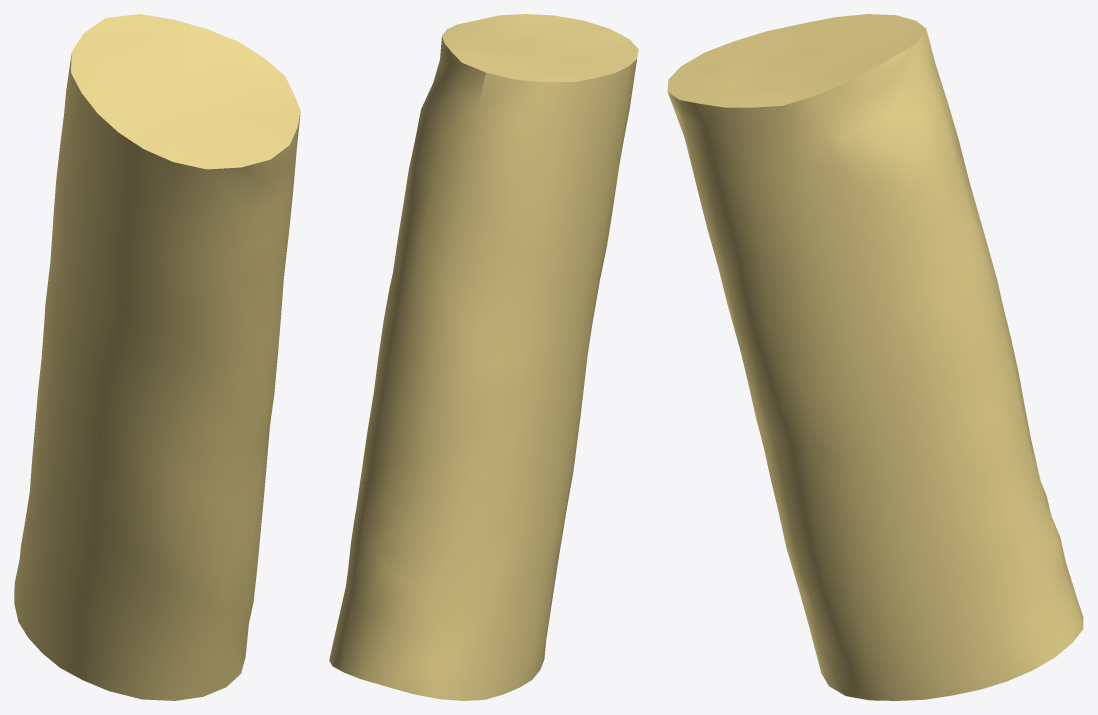
The model's file is fma327604-r_mm3411m.glb.
3 renders of one model, left to right at view 1: azimuth 30°, elevation 25°; view 2: azimuth 150°, elevation 25°; view 3: azimuth 270°, elevation 25°, orthographic. The views are drawn at different scales.
Visible parts, largest first — view 1: FMA327604-R_MM3411M; view 2: FMA327604-R_MM3411M; view 3: FMA327604-R_MM3411M.
Boxes of the visible parts, bbox=[...] form: FMA327604-R_MM3411M: bbox=[14, 14, 300, 700]; FMA327604-R_MM3411M: bbox=[329, 14, 638, 700]; FMA327604-R_MM3411M: bbox=[667, 14, 1083, 700].
Bounding box in the file's own units: 0.00165 × 0.00514 × 0.0031.
